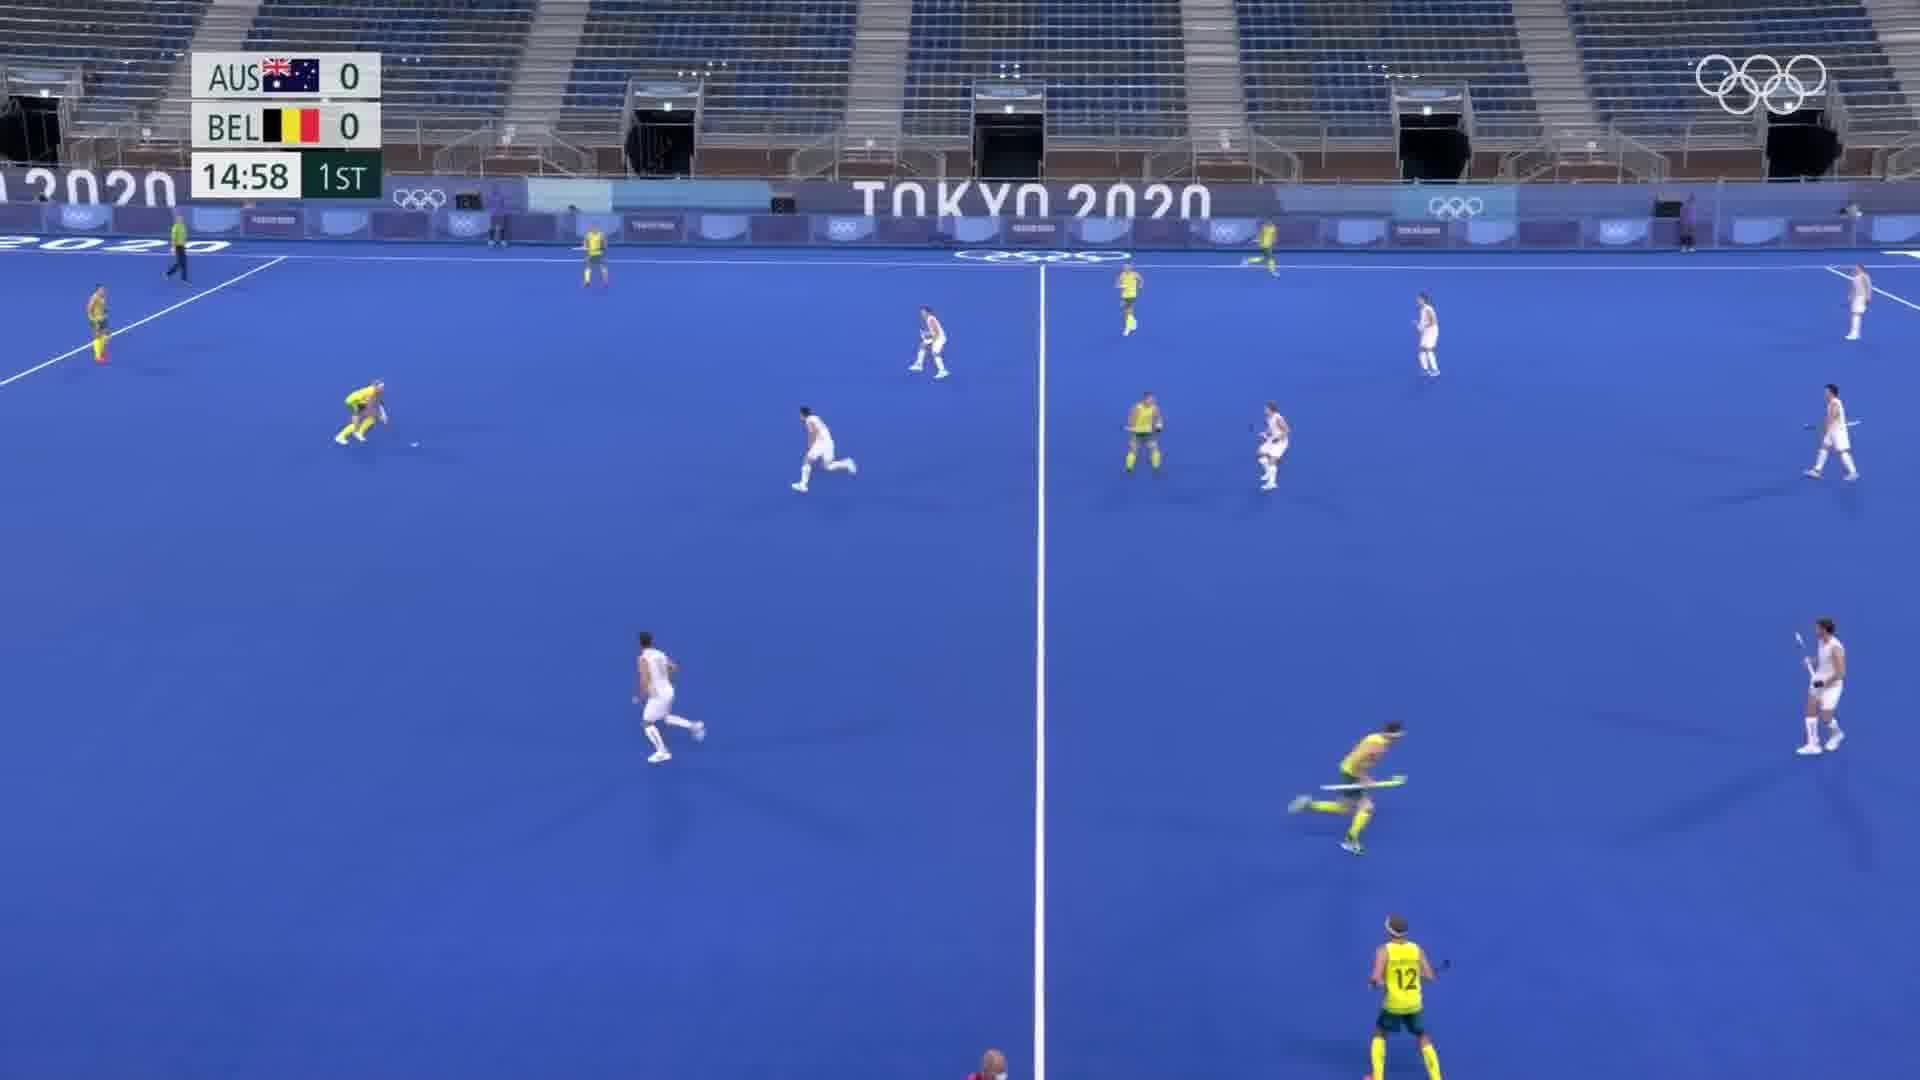ball: (398, 436, 425, 450)
